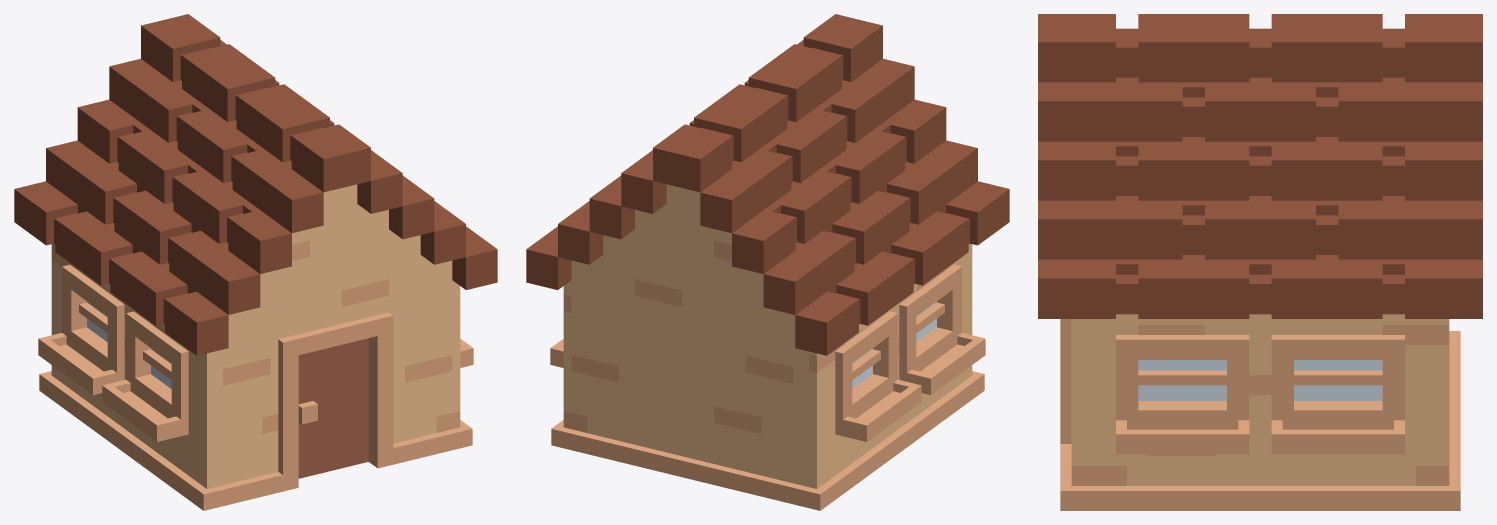
Rendered from village_house_1.obj.
3 renders of one model, left to right at view 1: azimuth 30°, elevation 25°; view 2: azimuth 150°, elevation 25°; view 3: azimuth 270°, elevation 25°, orthographic. The views are drawn at different scales.
Bounding box in the file's own units: 4 × 4 × 4.
1 material, 1 textured.
